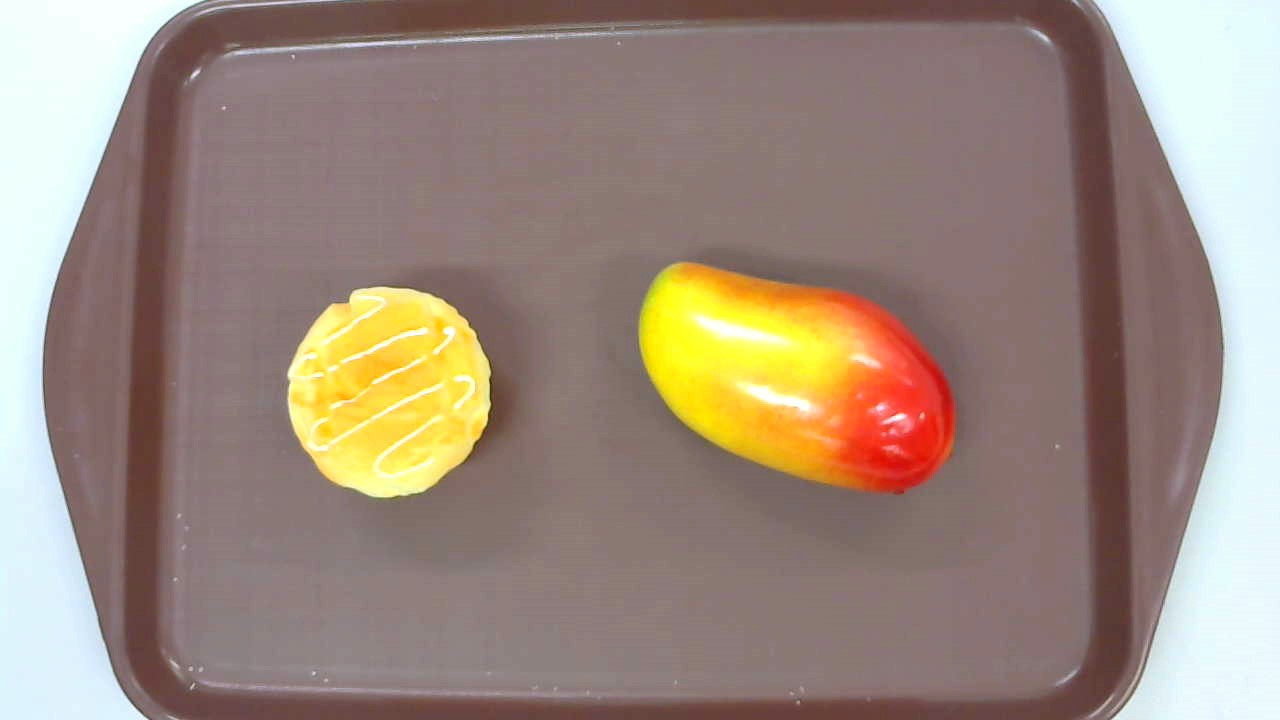cupcake: (286, 286, 492, 497)
red mango: (638, 260, 957, 497)
